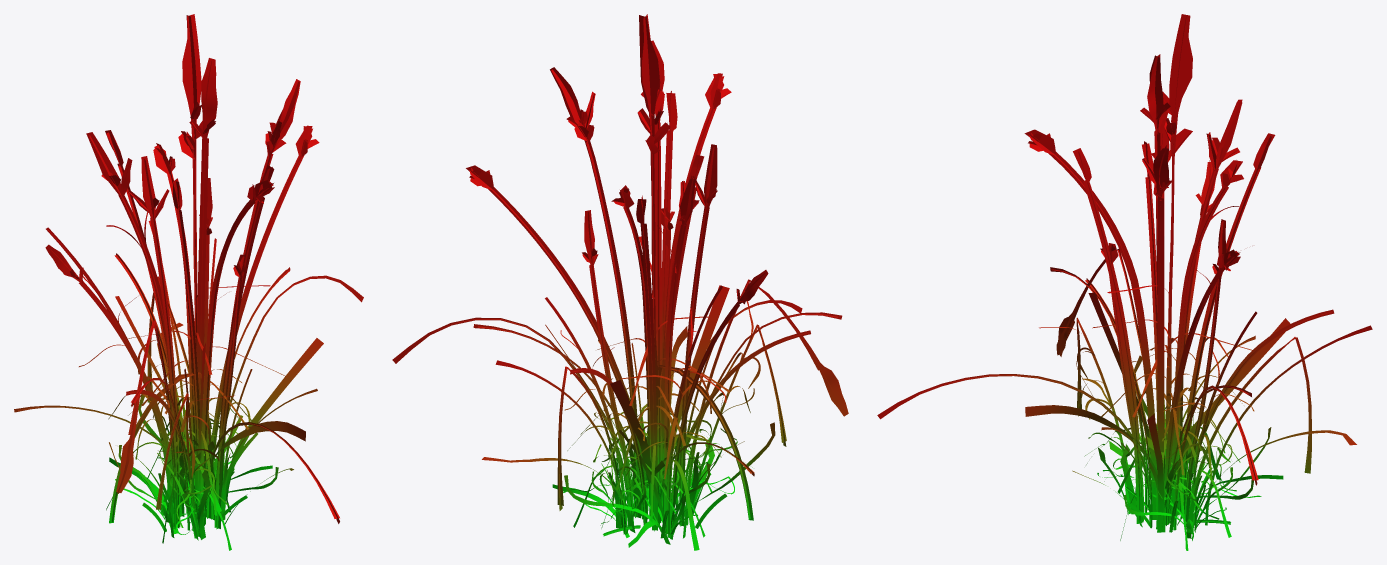
Rendered from tcfoejcr_Var1_LOD0.fbx.
The picture shows the model from 3 angles, left to right: view 1: azimuth 30°, elevation 25°; view 2: azimuth 150°, elevation 25°; view 3: azimuth 270°, elevation 25°; orthographic projection. The views are drawn at different scales.
Visible parts, largest first — view 1: _d5ef_Var1_LOD0; view 2: _d5ef_Var1_LOD0; view 3: _d5ef_Var1_LOD0.
Part boxes in pixels (box(x1,y1,x2,y2)): _d5ef_Var1_LOD0: box(14, 14, 363, 550); _d5ef_Var1_LOD0: box(392, 14, 848, 550); _d5ef_Var1_LOD0: box(877, 14, 1372, 550).
Size of the model in its own units: 80.57 by 113 by 97.04.
